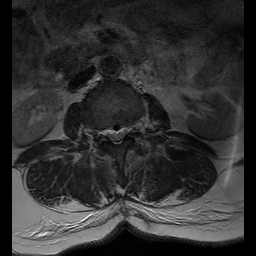CCS_stenosis: (113, 119, 121, 152)
LFS_normal: (130, 113, 138, 142)
LLS_normal: (121, 117, 130, 145)
RFS_normal: (95, 118, 104, 149)
RLS_normal: (104, 118, 113, 145)
